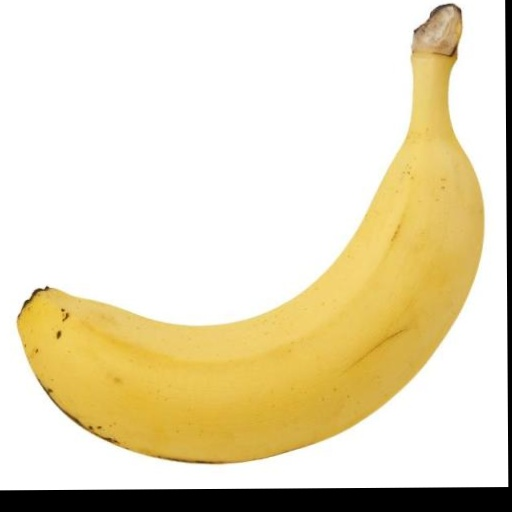fruit: (18, 5, 482, 462)
